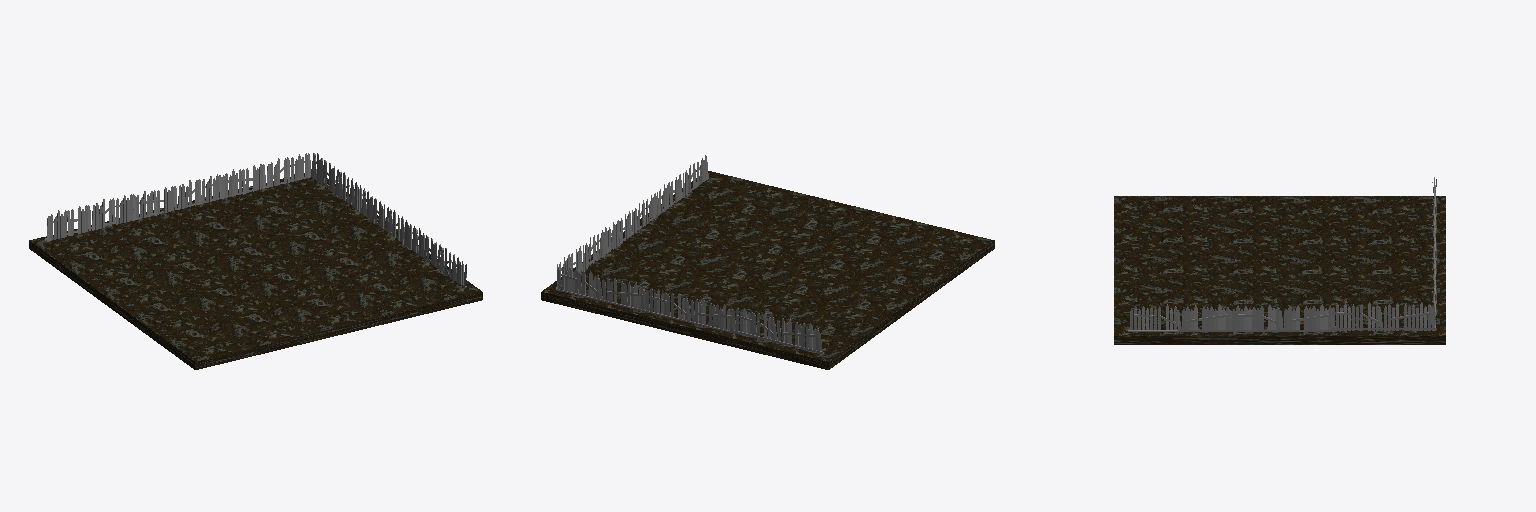
3 renders of one model, left to right at view 1: azimuth 30°, elevation 25°; view 2: azimuth 150°, elevation 25°; view 3: azimuth 270°, elevation 25°, orthographic.
Visible parts, largest first — view 1: base, Box006, Box008, Box007, Box009, Box011, Box010; view 2: base, Box006, Box008, Box007, Box011, Box010, Box009; view 3: base, Box010, Box011, Box009.
Boxes of the visible parts, <box> form: base: <box>29,173,482,369</box>; Box006: <box>45,194,136,241</box>; Box008: <box>222,153,310,198</box>; Box007: <box>133,174,221,220</box>; Box009: <box>311,153,364,213</box>; Box011: <box>413,228,466,288</box>; Box010: <box>361,190,414,249</box>; base: <box>541,171,994,369</box>; Box006: <box>731,307,823,354</box>; Box008: <box>557,266,646,311</box>; Box007: <box>645,288,736,333</box>; Box011: <box>657,155,708,215</box>; Box010: <box>607,193,657,253</box>; Box009: <box>556,227,608,289</box>; base: <box>1114,196,1445,344</box>; Box010: <box>1231,304,1336,331</box>; Box011: <box>1128,304,1231,331</box>; Box009: <box>1330,302,1436,330</box>.
Bounding box in the file's own units: 28.76 × 3.57 × 28.76.
Materials: 2 (1 with a texture image).